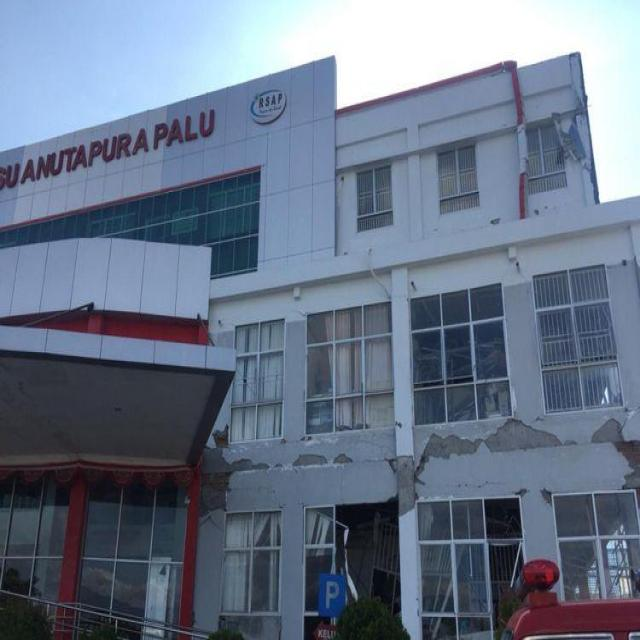damage: (408, 414, 578, 472), (194, 443, 280, 508), (588, 401, 640, 496), (286, 439, 361, 485), (384, 448, 420, 530)
